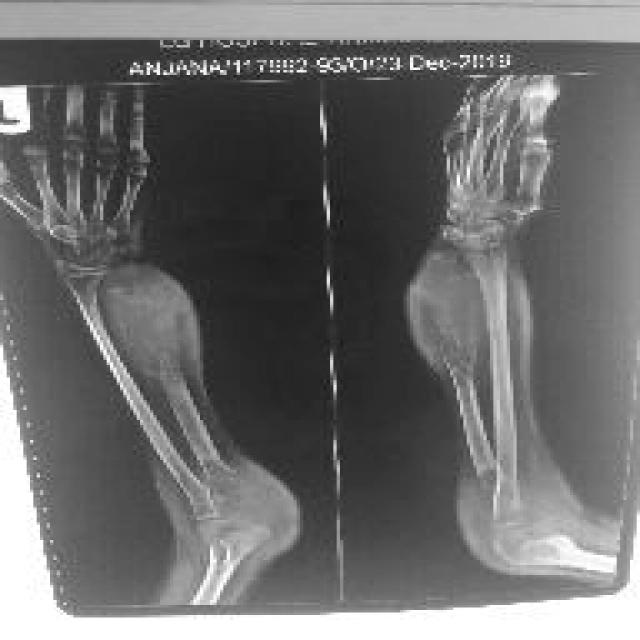bone-cancer: (102, 265, 200, 377), (411, 250, 484, 373)
